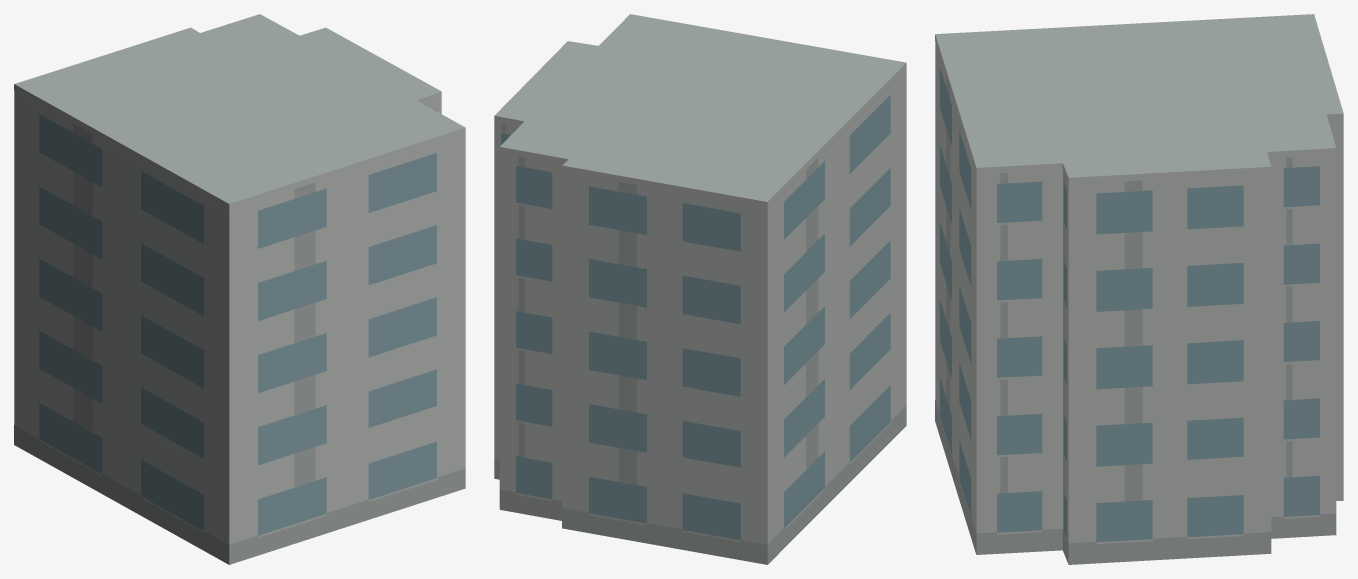
File: survey-upis-32719542.glb
The picture shows the model from 3 angles, left to right: view 1: azimuth 30°, elevation 25°; view 2: azimuth 150°, elevation 25°; view 3: azimuth 270°, elevation 25°; orthographic projection. The views are drawn at different scales.
Visible parts, largest first — view 1: survey-upis-32719542.tmp; view 2: survey-upis-32719542.tmp; view 3: survey-upis-32719542.tmp.
Boxes of the visible parts, left/top/right/bottom form: survey-upis-32719542.tmp: left=14, top=14, right=465, bottom=564; survey-upis-32719542.tmp: left=494, top=14, right=906, bottom=564; survey-upis-32719542.tmp: left=935, top=14, right=1343, bottom=564.
Bounding box in the file's own units: 12.99 × 14.3 × 13.69.
